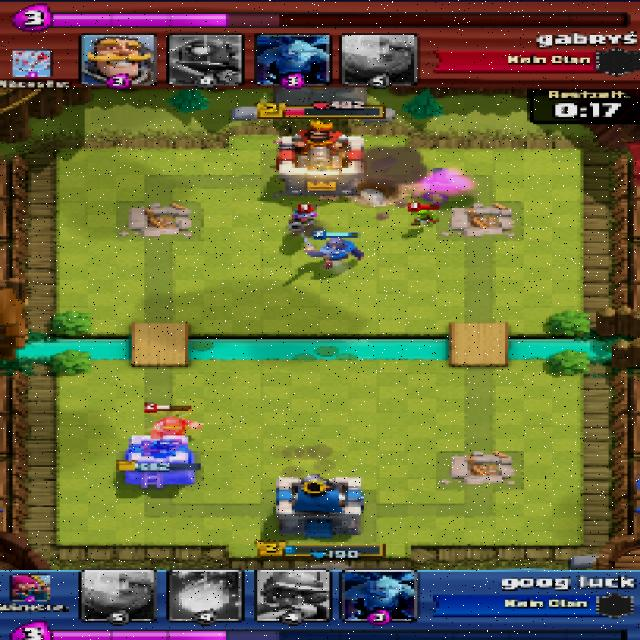Enemy-Goblin: (402, 204, 442, 227)
Enemy-Knight: (149, 416, 205, 439)
Enemy-Musketeer: (287, 207, 320, 232)
Player-Knight: (294, 232, 365, 268)
